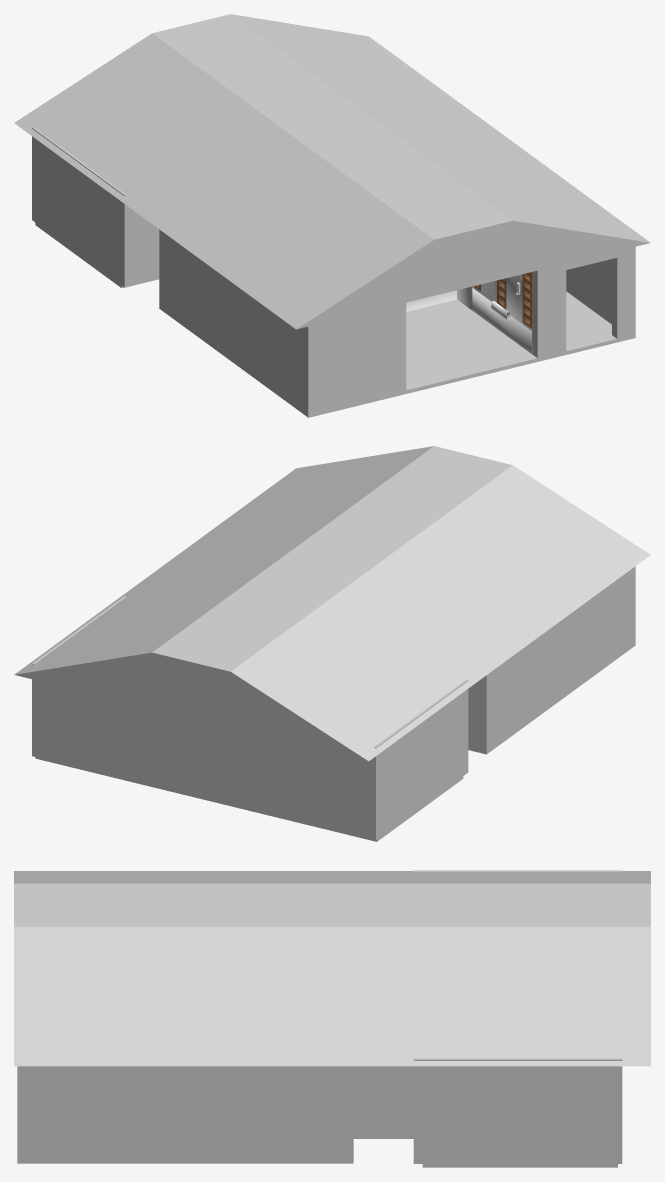
Rendered from gebouw.fbx.
The picture shows the model from 3 angles, top to bottom: view 1: azimuth 30°, elevation 25°; view 2: azimuth 150°, elevation 25°; view 3: azimuth 270°, elevation 25°; orthographic projection. The views are drawn at different scales.
Visible parts, largest first — view 1: Building, e; view 2: Building; view 3: Building.
Part boxes in pixels (x1,y1,x2,y2): Building: [14, 14, 650, 417]; e: [406, 274, 532, 353]; Building: [14, 446, 650, 841]; Building: [14, 870, 650, 1167].
Bounding box in the file's own units: 917 × 368 × 1263.
4 materials, 1 textured.
